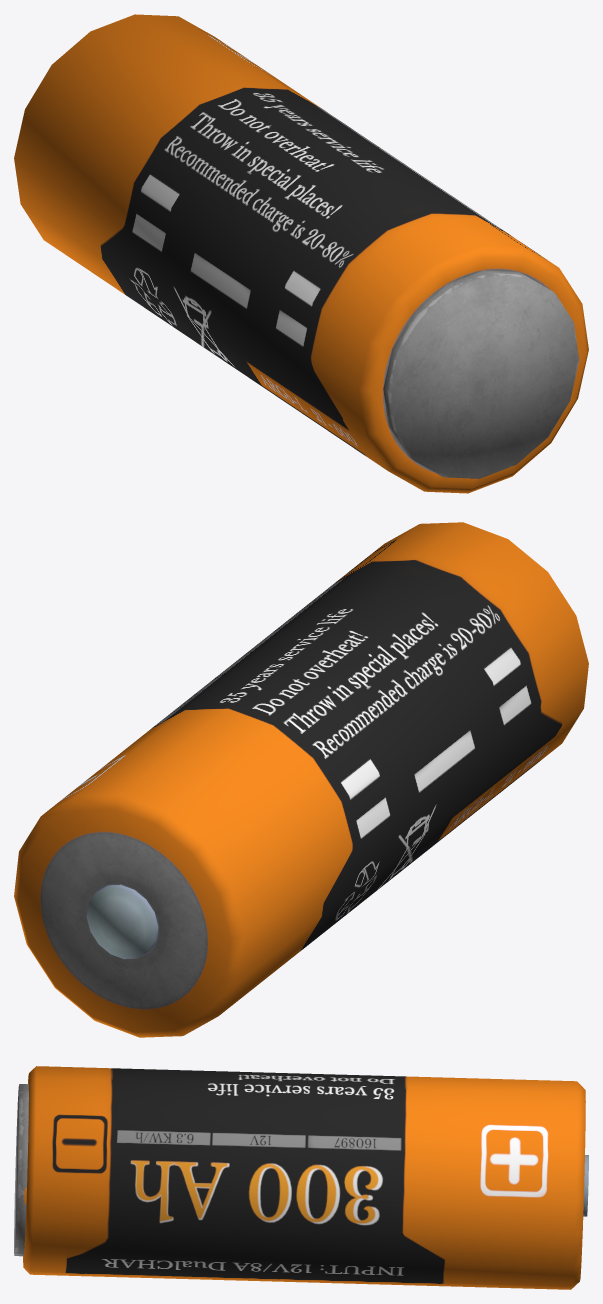
The model's file is battery.glb.
The picture shows the model from 3 angles, top to bottom: view 1: azimuth 30°, elevation 25°; view 2: azimuth 150°, elevation 25°; view 3: azimuth 270°, elevation 25°; orthographic projection. The views are drawn at different scales.
Visible parts, largest first — view 1: Cylinder006; view 2: Cylinder006; view 3: Cylinder006.
Part boxes in pixels (x1,y1,x2,y2): Cylinder006: [14, 14, 588, 493]; Cylinder006: [14, 522, 588, 1037]; Cylinder006: [14, 1066, 588, 1289].
Bounding box in the file's own units: 15.45 × 16.62 × 42.17.
Materials: 1 (1 with a texture image).
